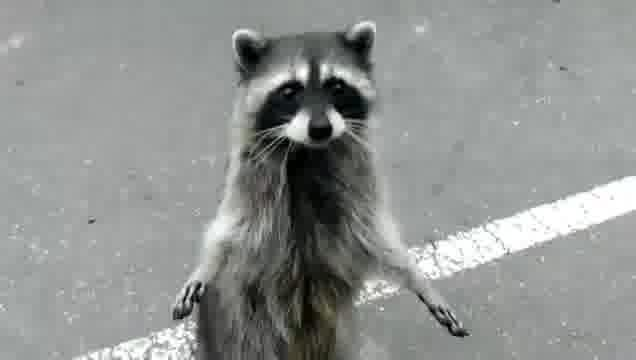raccoon: (170, 18, 470, 360)
